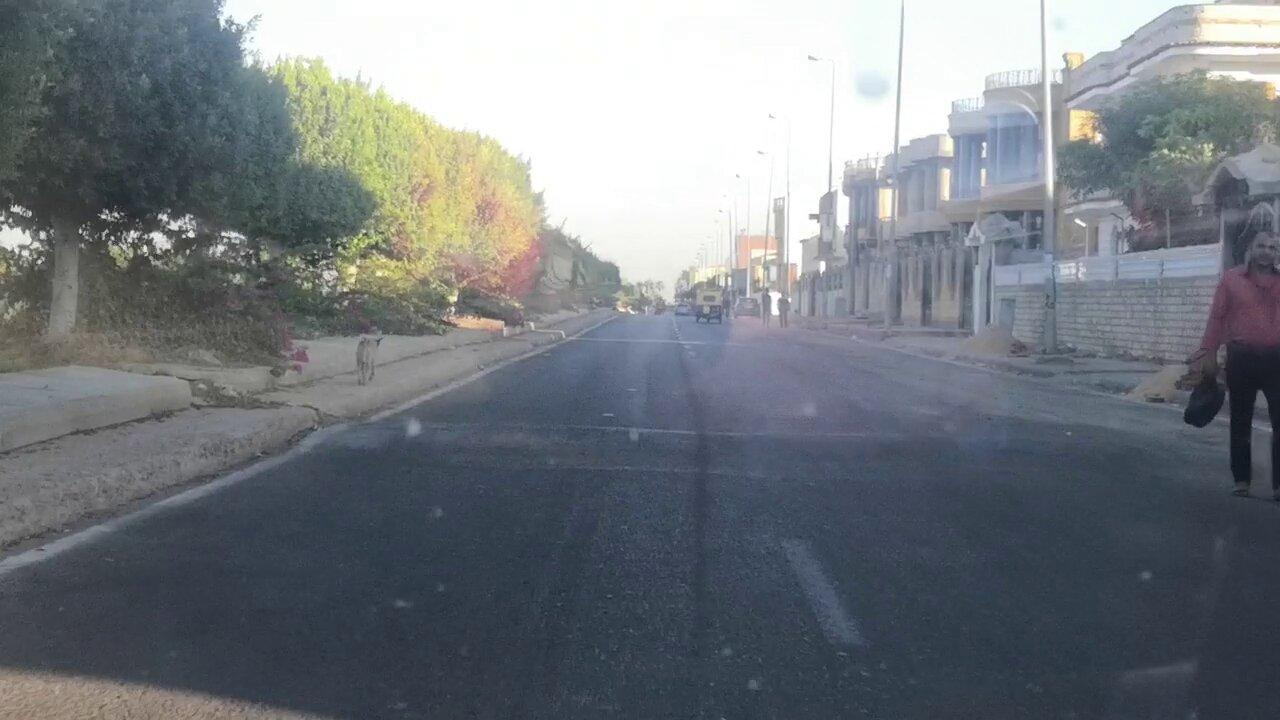Bump: (325, 408, 1183, 452)
